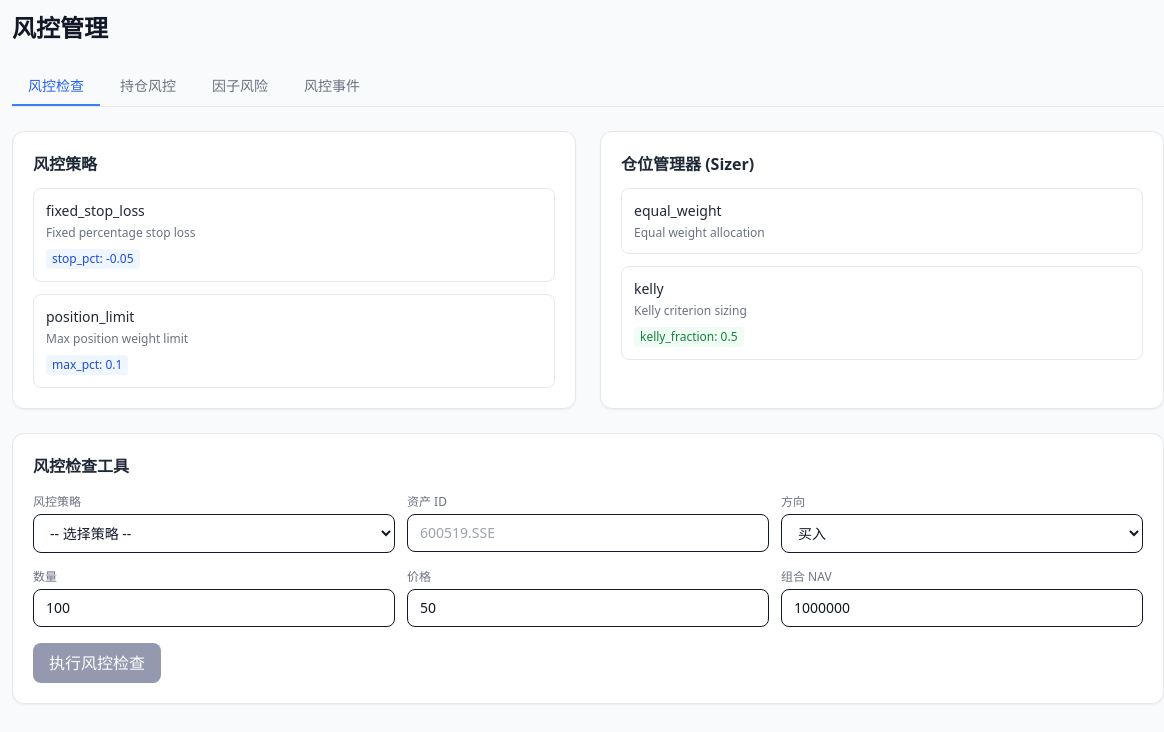
Test: RiskPage › switches to position risk tab
Click the button "持仓风控" at (148, 87), box [104, 68, 192, 106]
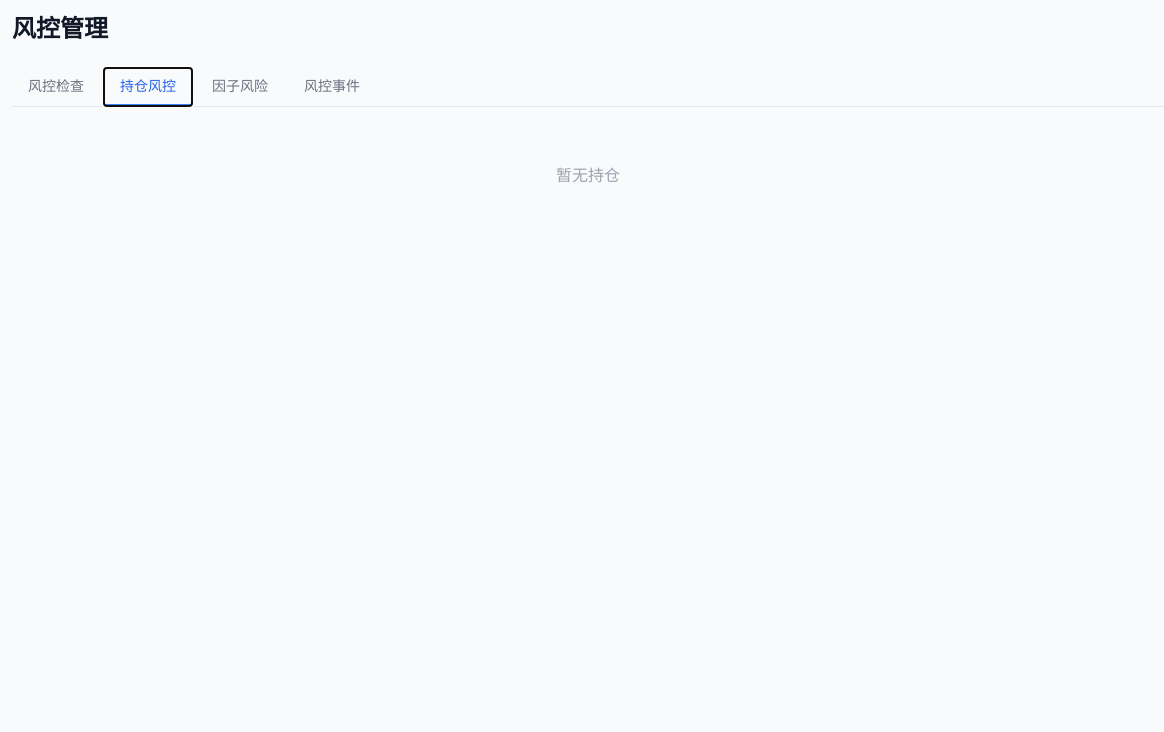
Check: the text "暂无持仓" is shown, box [556, 164, 620, 186]
